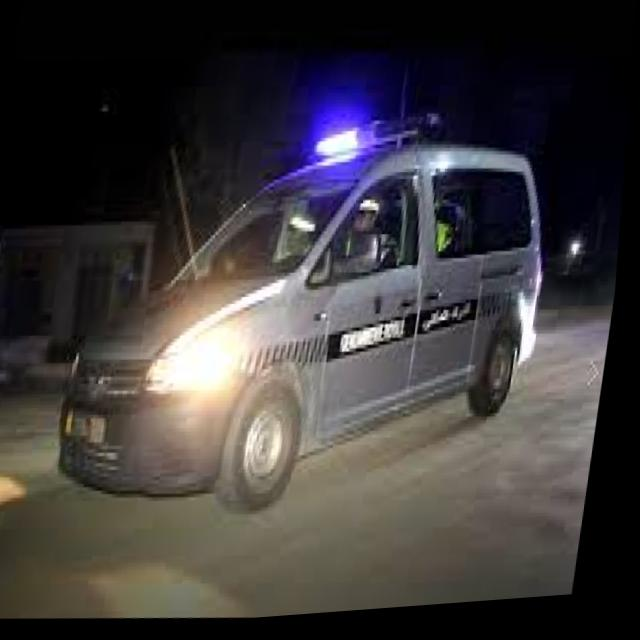gendarme car: (46, 90, 581, 554)
